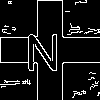N: (25, 25, 61, 71)
